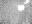person: (18, 6, 25, 10), (24, 1, 29, 5)
